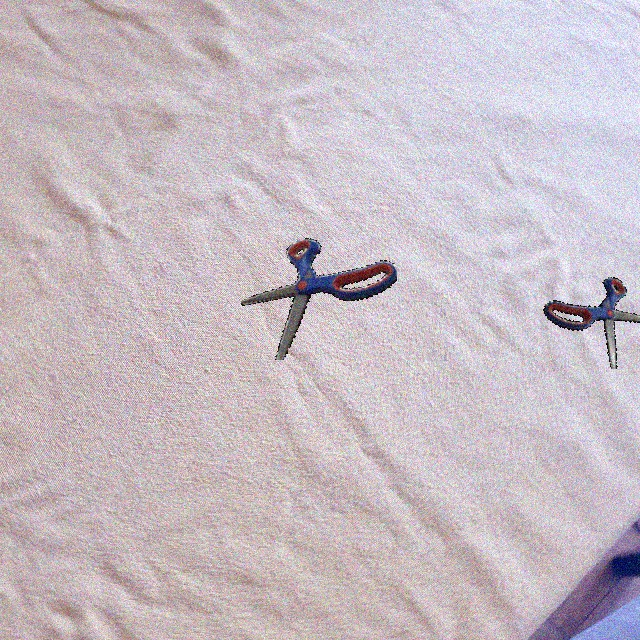scissors: (241, 238, 397, 360), (543, 277, 640, 369)
